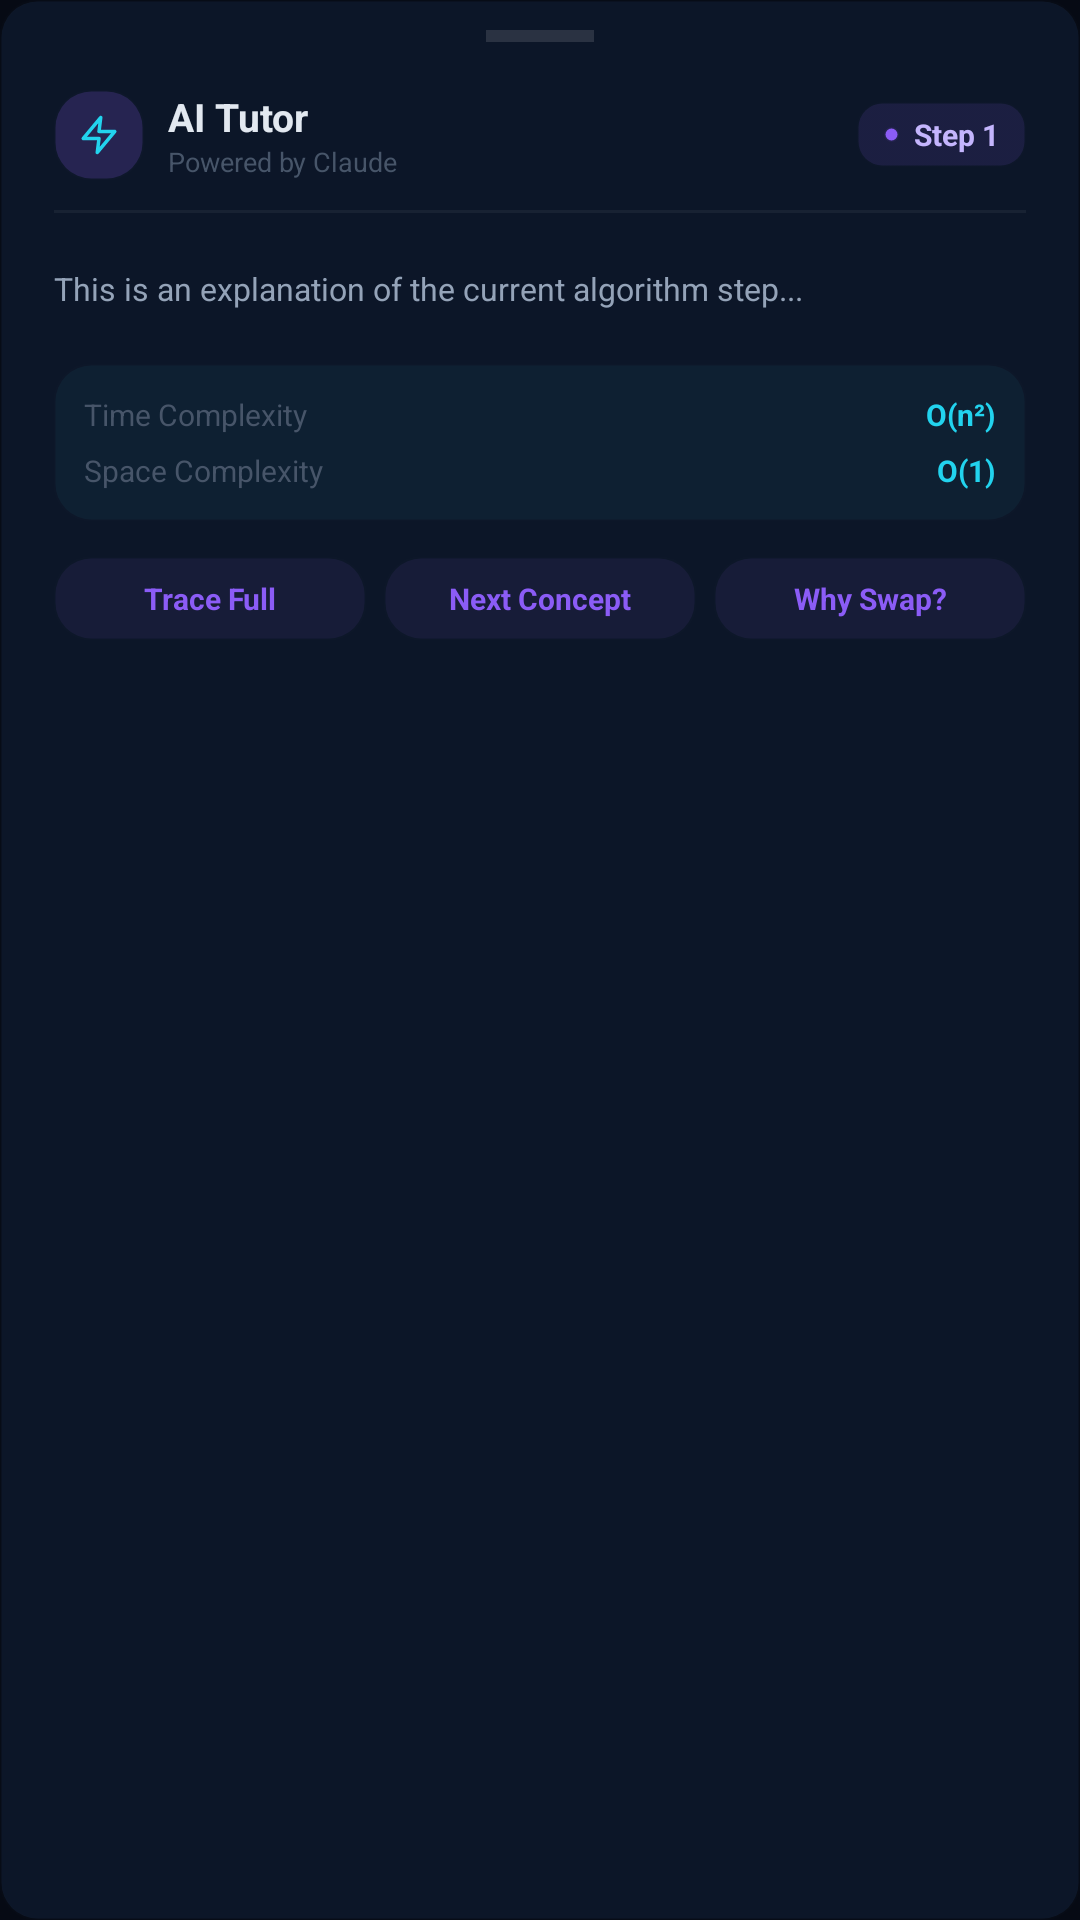

Where icons sit on this 1080×1920 app screen, as detection(x1, y1, x2, y2):
zap: detection(81, 115, 117, 155)
